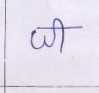i_matra: (47, 18, 61, 47)
